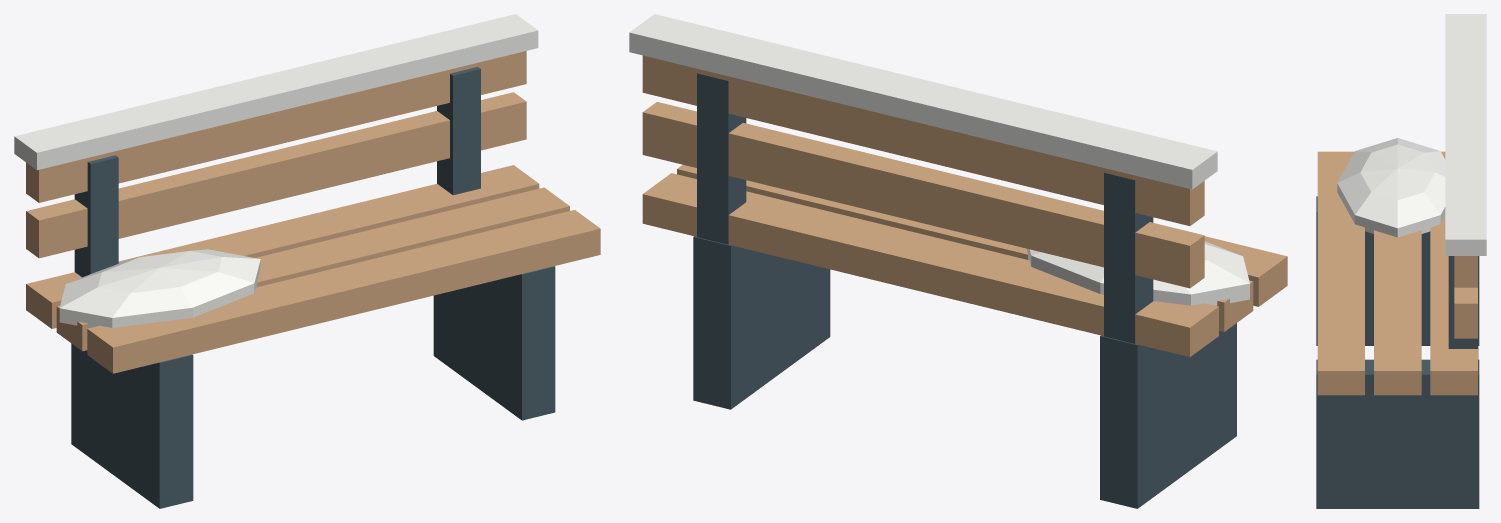
Rendered from bench_a.glb.
The picture shows the model from 3 angles, left to right: view 1: azimuth 30°, elevation 25°; view 2: azimuth 150°, elevation 25°; view 3: azimuth 270°, elevation 25°; orthographic projection. The views are drawn at different scales.
Visible parts, largest first — view 1: snow-dusted-bench-cedar, snow-dusted-bench-iron, snow-dusted-bench-snow; view 2: snow-dusted-bench-cedar, snow-dusted-bench-iron, snow-dusted-bench-snow; view 3: snow-dusted-bench-cedar, snow-dusted-bench-iron, snow-dusted-bench-snow.
Boxes of the visible parts, left/top/right/bottom form: snow-dusted-bench-cedar: left=26, top=51, right=600, bottom=373; snow-dusted-bench-iron: left=71, top=67, right=555, bottom=508; snow-dusted-bench-snow: left=14, top=14, right=538, bottom=327; snow-dusted-bench-cedar: left=642, top=55, right=1287, bottom=356; snow-dusted-bench-iron: left=693, top=73, right=1236, bottom=508; snow-dusted-bench-snow: left=629, top=14, right=1249, bottom=305; snow-dusted-bench-cedar: left=1317, top=151, right=1477, bottom=395; snow-dusted-bench-iron: left=1316, top=196, right=1479, bottom=508; snow-dusted-bench-snow: left=1337, top=14, right=1486, bottom=255.
Size of the model in its own units: 1.81 by 1.09 by 0.5751.
